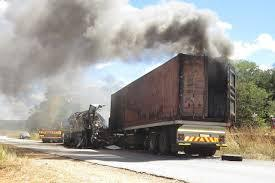smoke: (48, 4, 222, 53)
